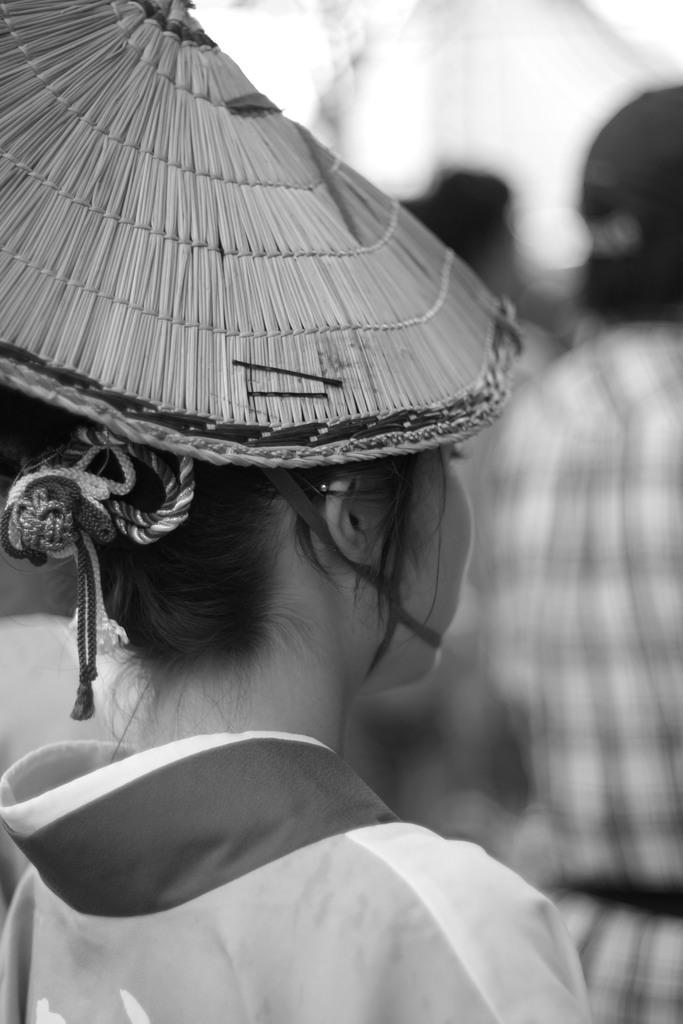Hat: (0, 0, 520, 720), (578, 78, 682, 256)
